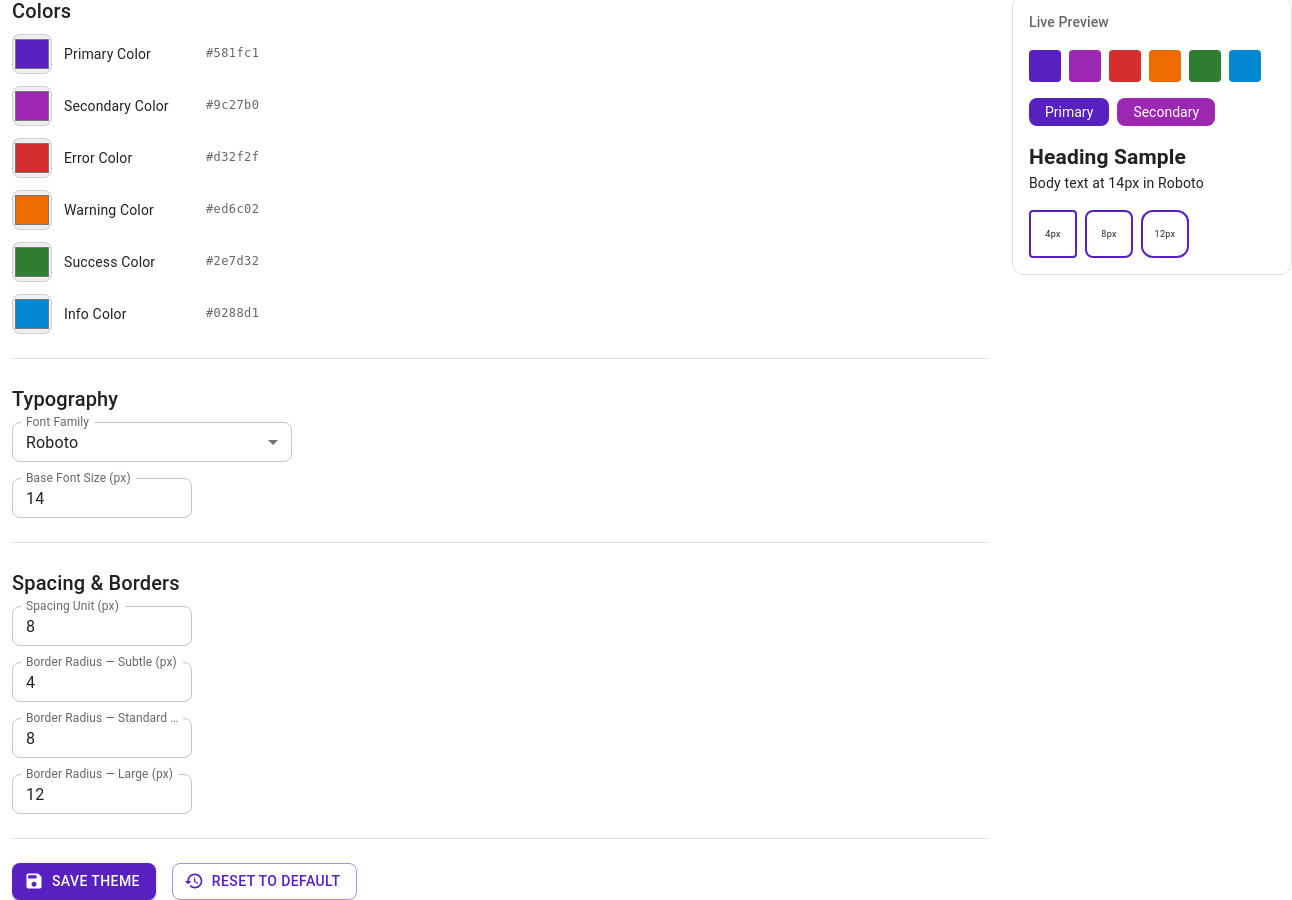
ThemeEditorTab — save › shows save success alert after saving
Click the button with test id "save-theme-btn" at (84, 881), box [12, 863, 156, 899]
(page scrolled)
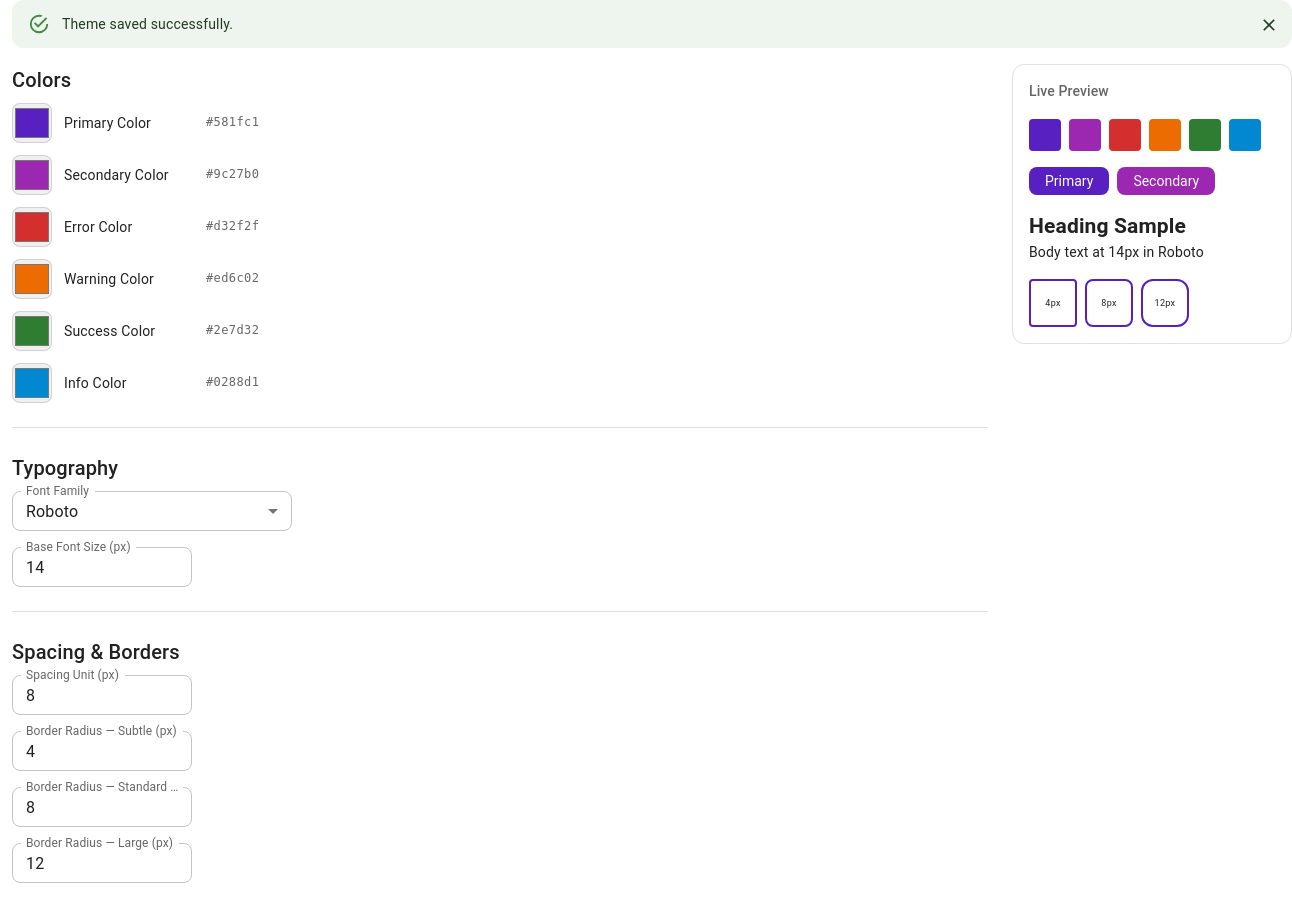
Result: the message "Theme saved successfully." is shown at [12, 0, 1291, 48]
